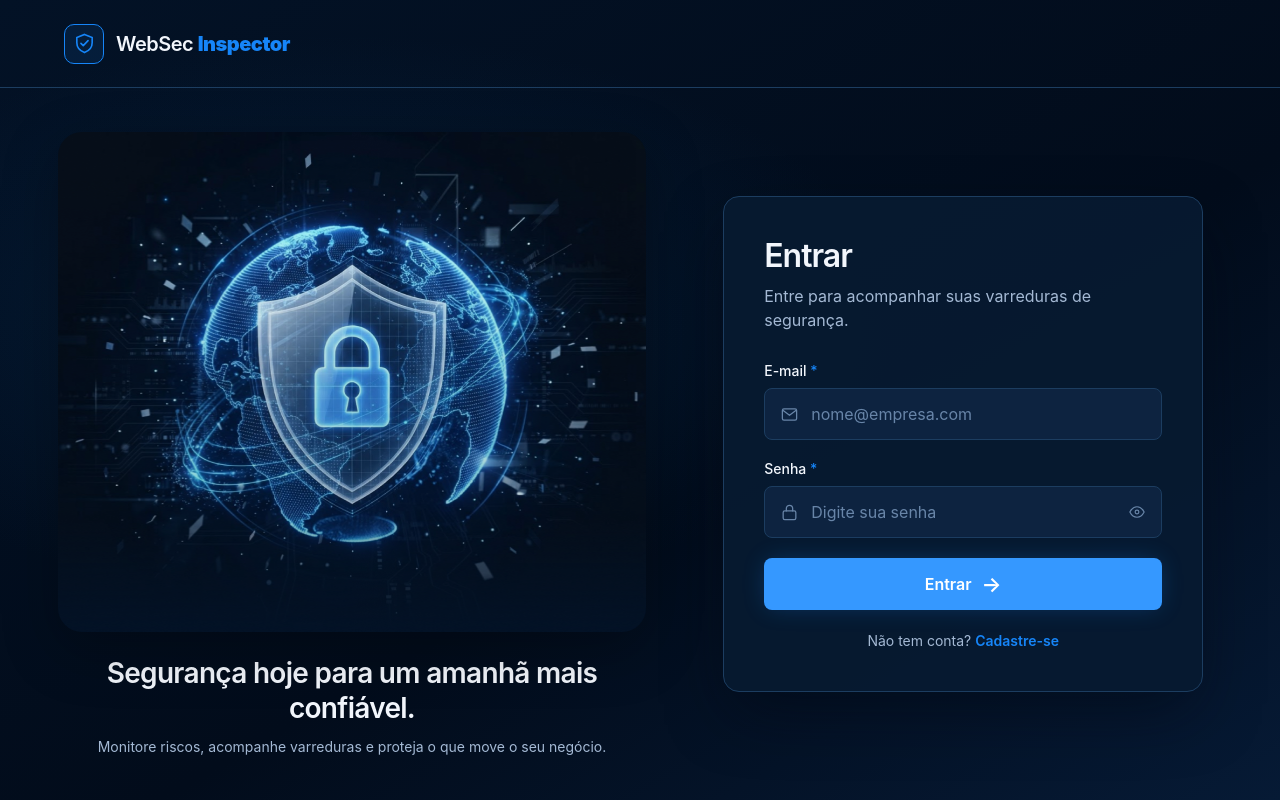
Test: Autenticação — componentes reais, transporte HTTP simulado › AUTH-UI-04: credencial inválida mostra mensagem e não autentica
This screenshot has width=1280, height=800.
In the field labelled "E-mail *": x=979, y=414 [811,402,1146,426], type "qa@example.invalid"
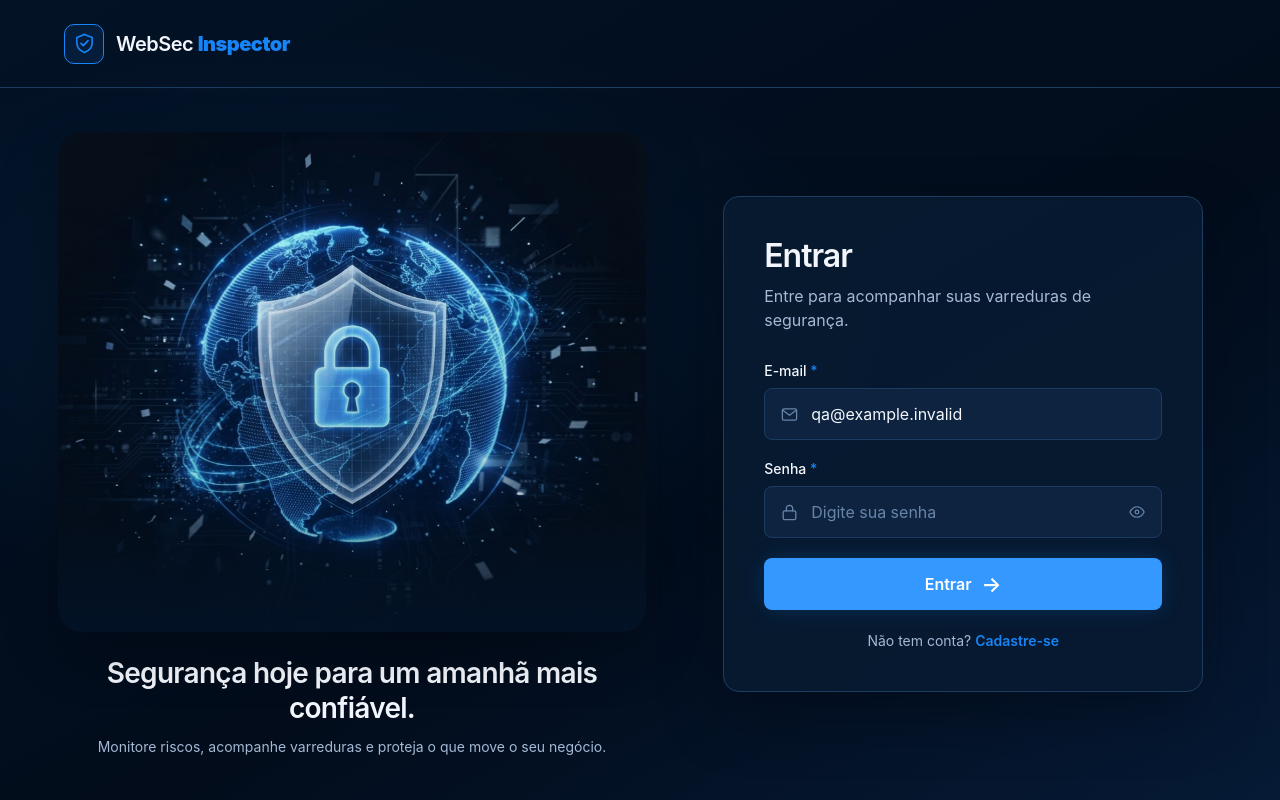
In the password field labelled "Senha *": x=963, y=512 [811,500,1114,524], type "incorrect"
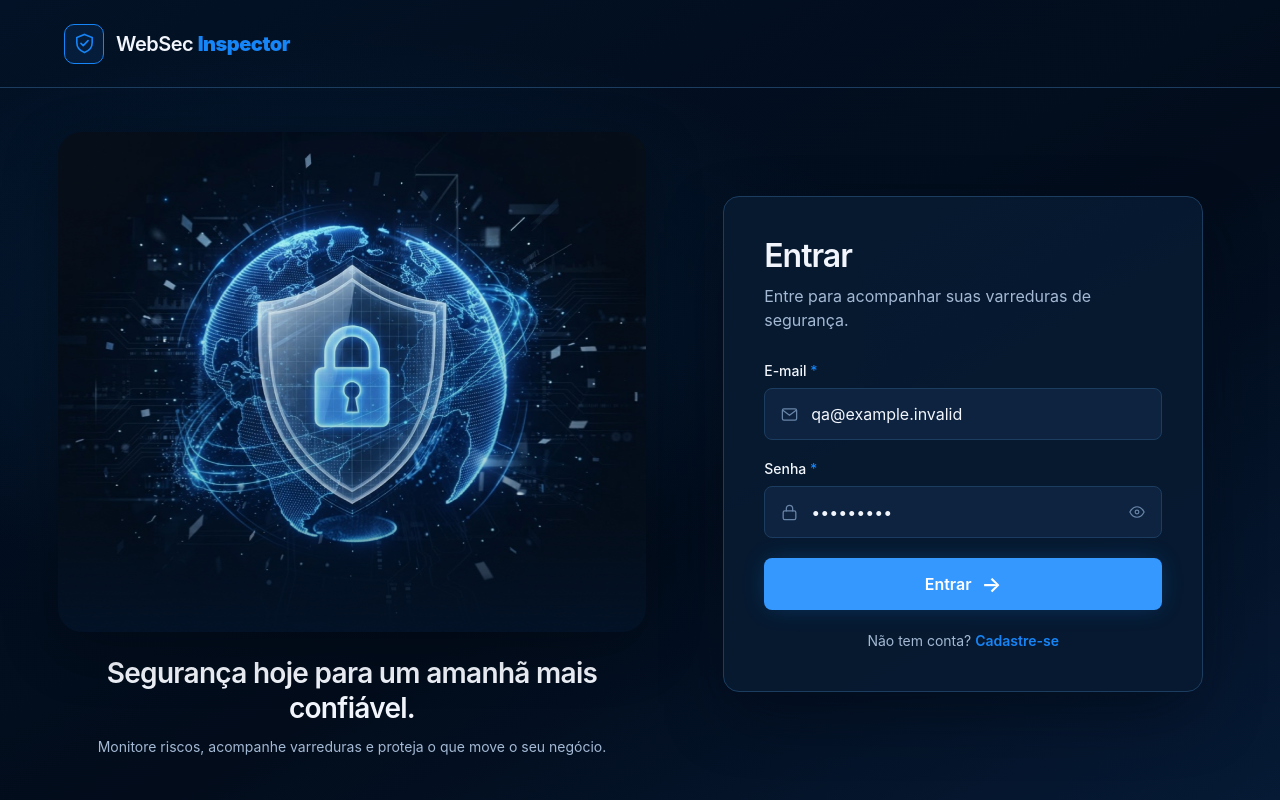
Click the button "Entrar →": x=963, y=584 [764,558,1162,610]
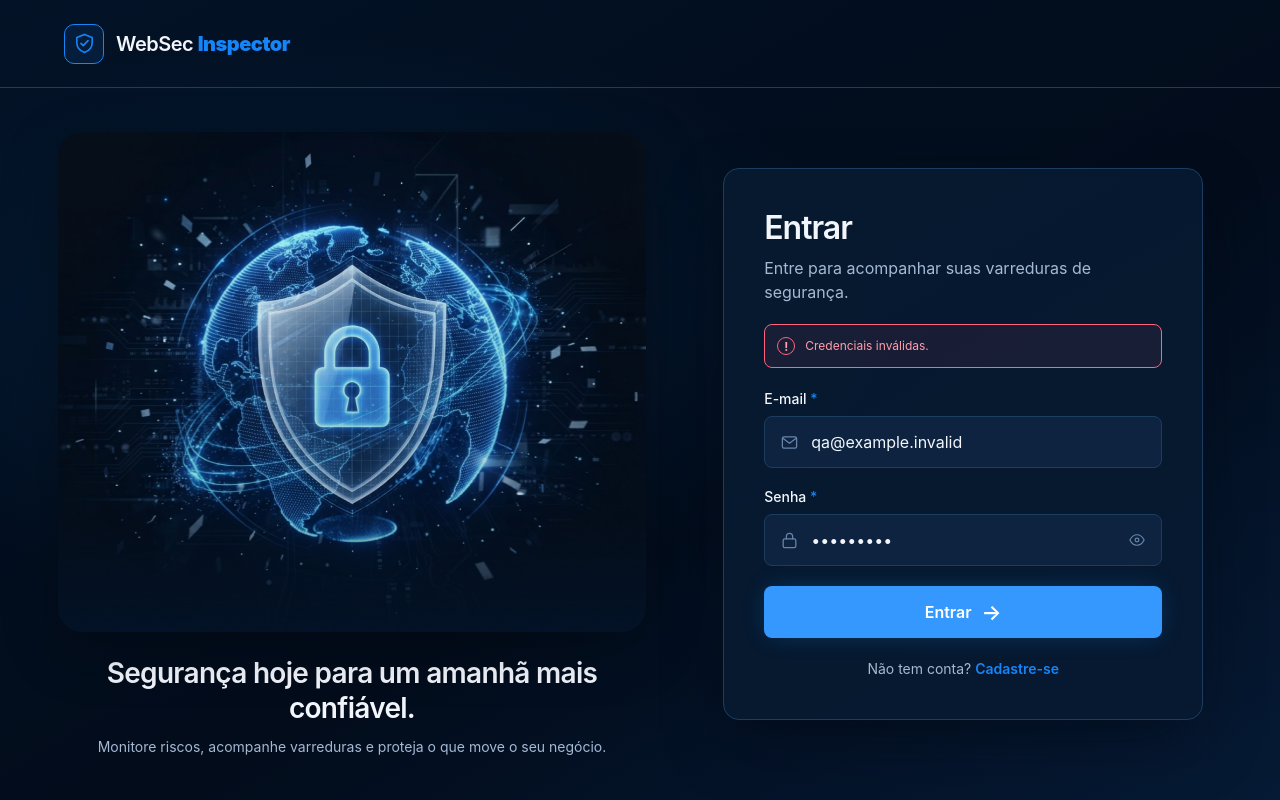
Expected: the message shows "Credenciais inválidas.", [805,338,929,353]
